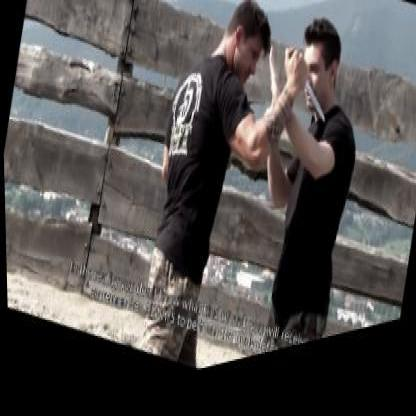knife: (273, 46, 336, 150)
